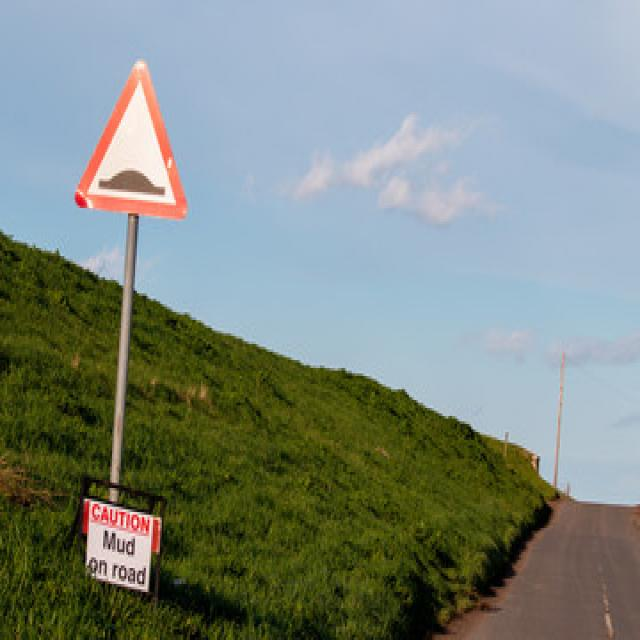hump: (75, 57, 194, 216)
